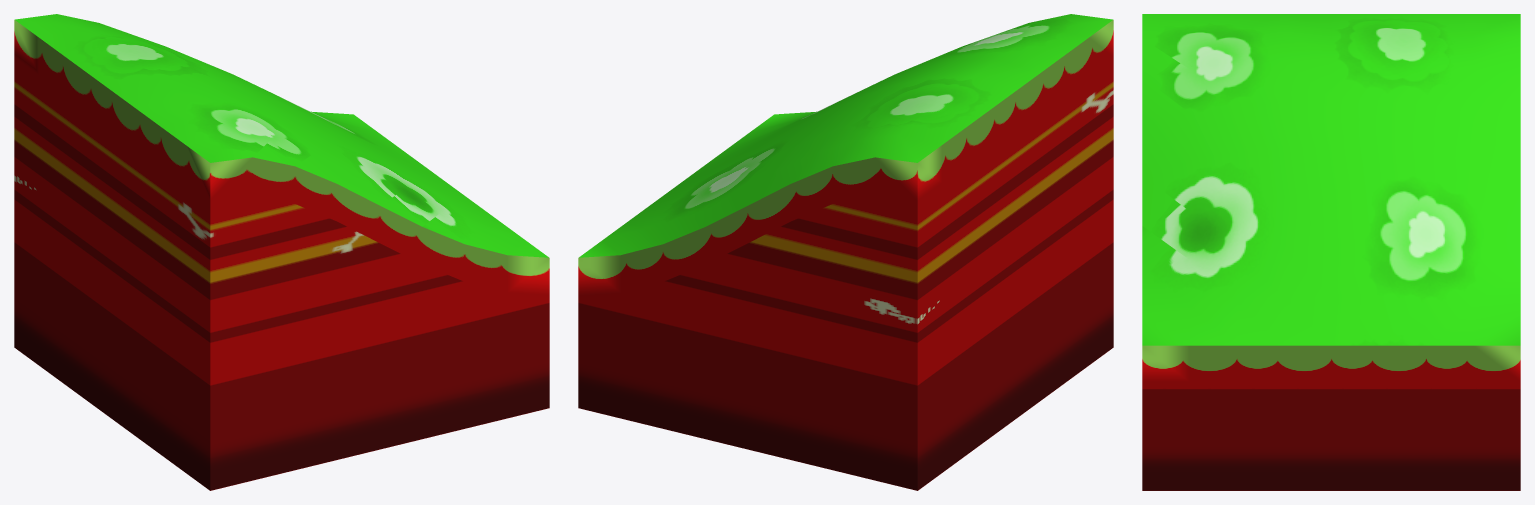
The model's file is block_rect_curved_hill_2x2.obj.
3 views of the same model, side by side, from view 1: azimuth 30°, elevation 25°; view 2: azimuth 150°, elevation 25°; view 3: azimuth 270°, elevation 25° (orthographic). The views are drawn at different scales.
Parts seen in each view (by area): view 1: polySurface5; view 2: polySurface5; view 3: polySurface5.
Boxes of the visible parts, left/top/right/bottom form: polySurface5: left=14, top=14, right=549, bottom=490; polySurface5: left=578, top=14, right=1113, bottom=490; polySurface5: left=1142, top=14, right=1520, bottom=490.
Size of the model in its own units: 200 by 187 by 200.
